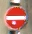No entry: (5, 6, 27, 29)
